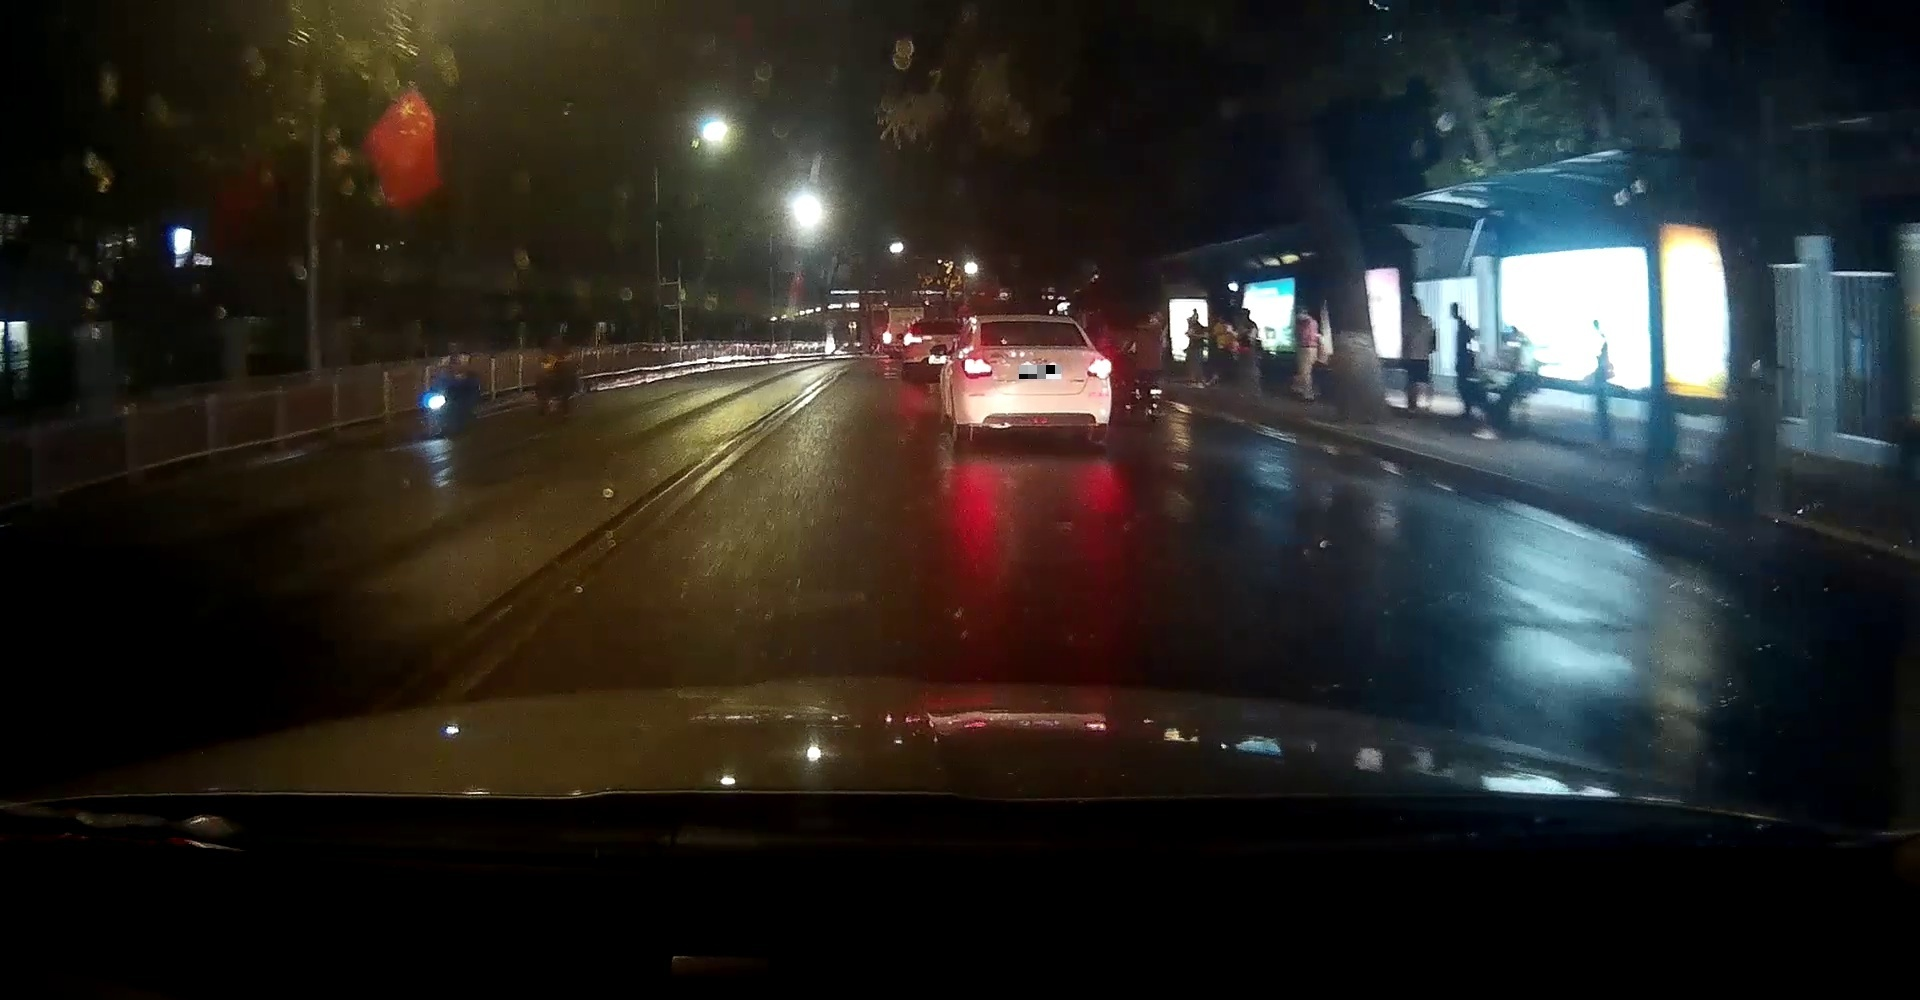L_light: (963, 358, 992, 378)
R_light: (1087, 359, 1111, 379)
T_light: (1018, 321, 1040, 326)
night-right: (957, 313, 1112, 444)
plate_1: (1018, 365, 1062, 379)
